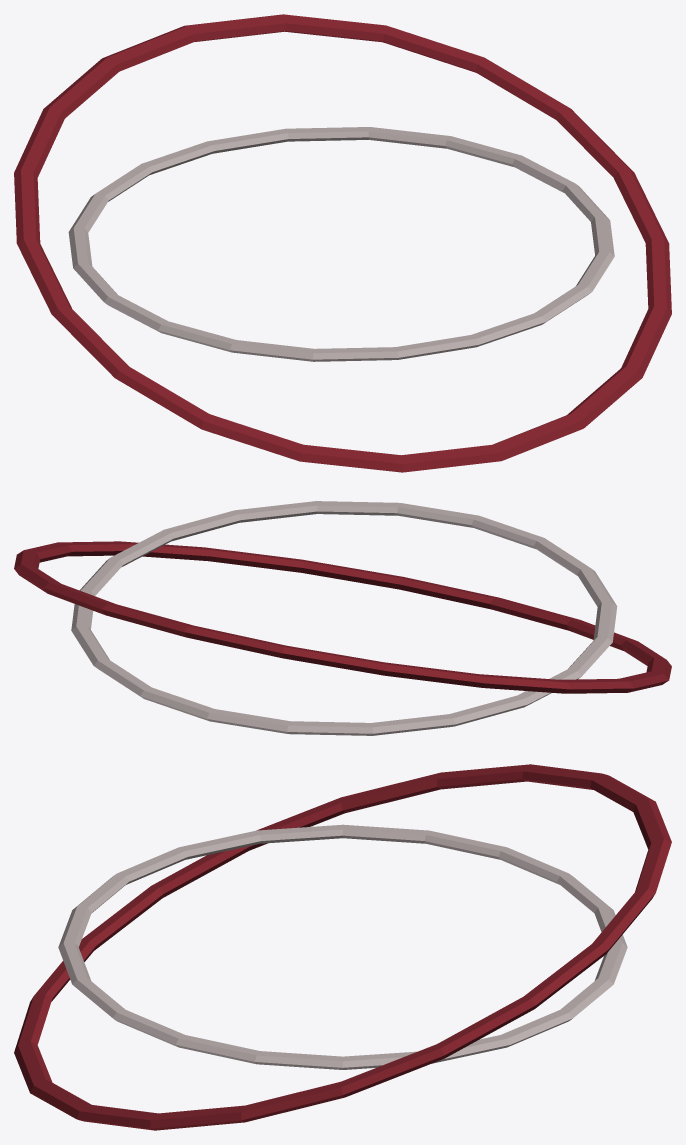
Rendered from Gas_Giant_01_Rings_Lod1.fbx.
3 views of the same model, one above another, from view 1: azimuth 30°, elevation 25°; view 2: azimuth 150°, elevation 25°; view 3: azimuth 270°, elevation 25° (orthographic). The views are drawn at different scales.
Parts seen in each view (by area): view 1: Gas_Giant_01_Rings_Lod1; view 2: Gas_Giant_01_Rings_Lod1; view 3: Gas_Giant_01_Rings_Lod1.
Part boxes in pixels (x1,y1,x2,y2): Gas_Giant_01_Rings_Lod1: (14, 14, 671, 472); Gas_Giant_01_Rings_Lod1: (14, 501, 671, 735); Gas_Giant_01_Rings_Lod1: (14, 764, 671, 1130).
Size of the model in its own units: 32846 by 11272 by 30970.
